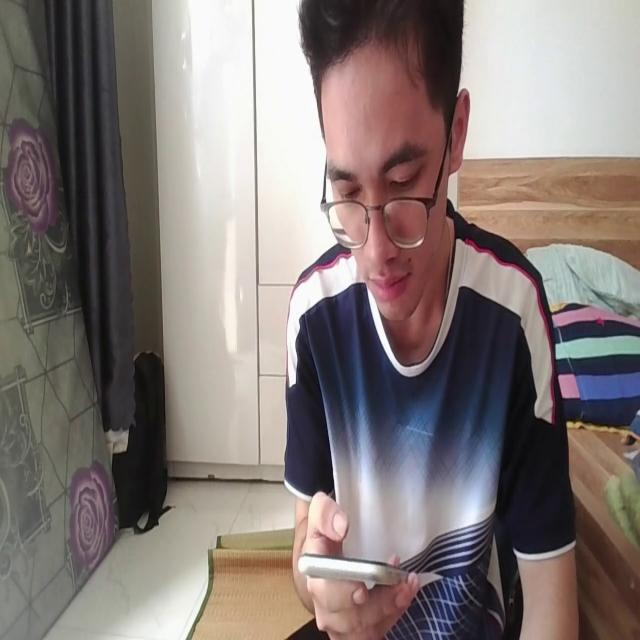phone: (295, 550, 404, 590)
student: (267, 1, 584, 640)
